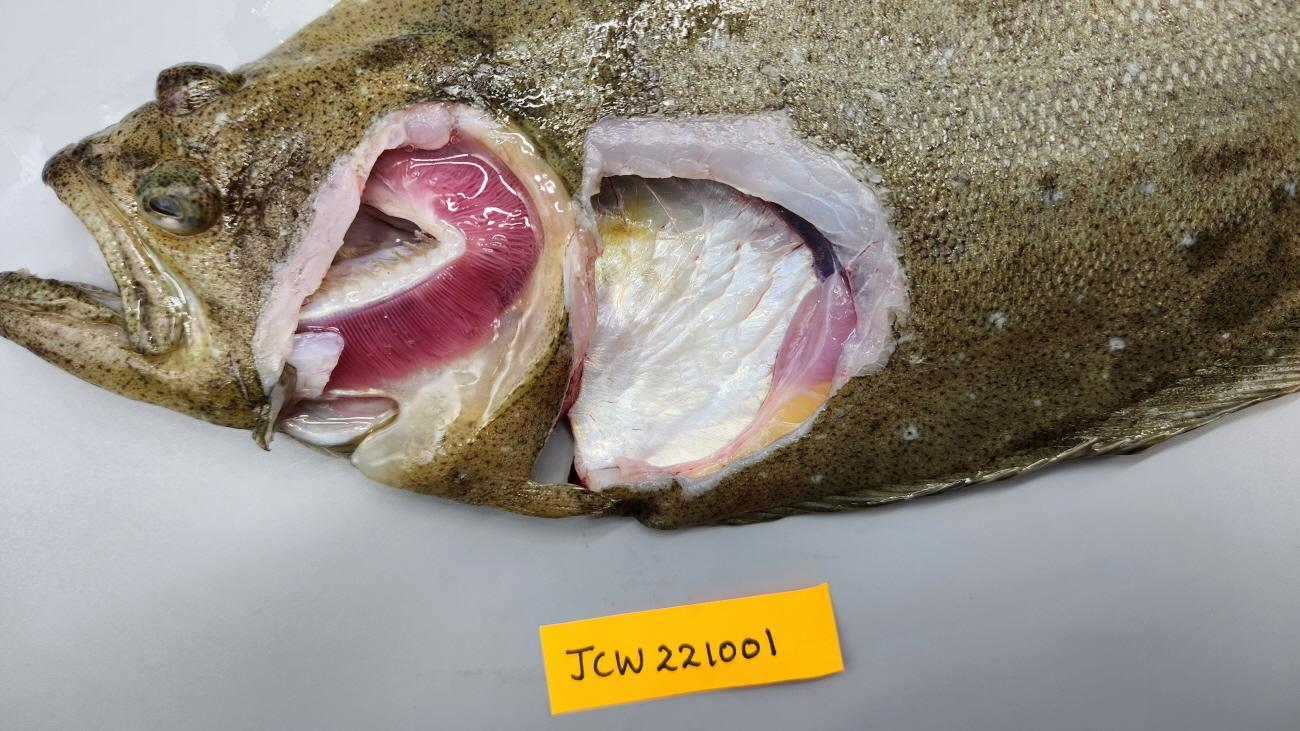POASN: (567, 175, 817, 478)
POKIN: (754, 197, 835, 279)
POREN: (612, 272, 858, 480)
